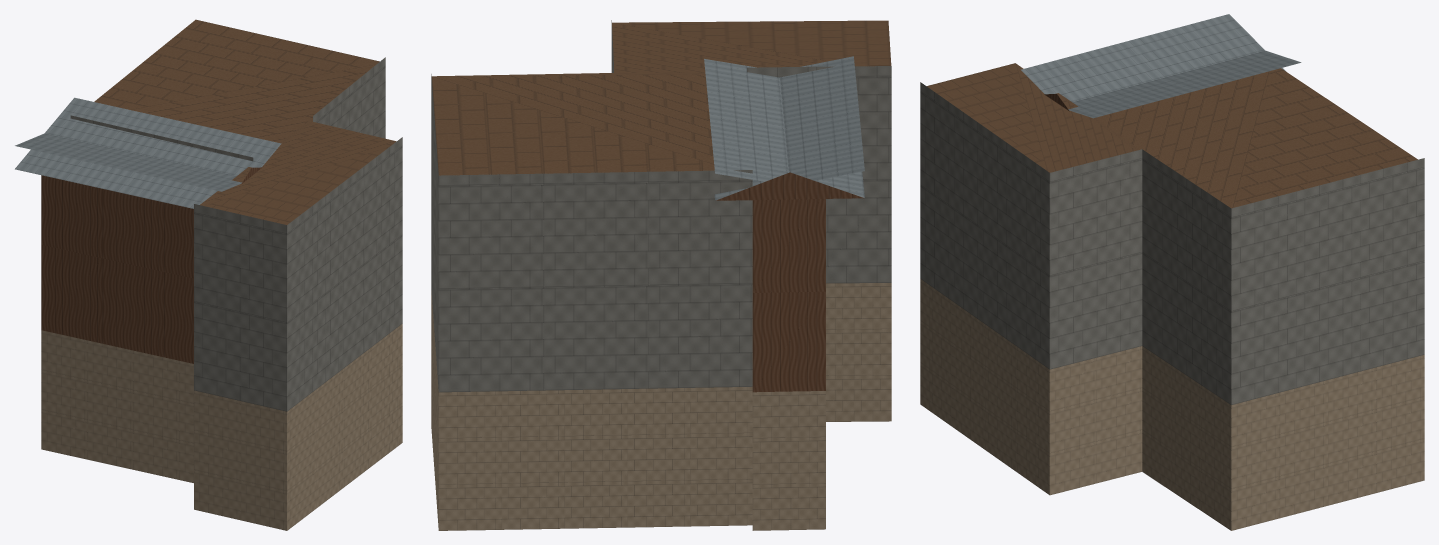
Rendered from bld_c18_28_387.gltf.
3 renders of one model, left to right at view 1: azimuth 30°, elevation 25°; view 2: azimuth 150°, elevation 25°; view 3: azimuth 270°, elevation 25°, orthographic. The views are drawn at different scales.
Visible parts, largest first — view 1: bld_c18_28_387; view 2: bld_c18_28_387; view 3: bld_c18_28_387.
Part boxes in pixels (<box>): bld_c18_28_387: <box>15,19,402,530</box>; bld_c18_28_387: <box>431,20,891,530</box>; bld_c18_28_387: <box>920,14,1424,530</box>.
Bounding box in the file's own units: 16.65 × 13.4 × 18.54.
Materials: 7 (7 with a texture image).
